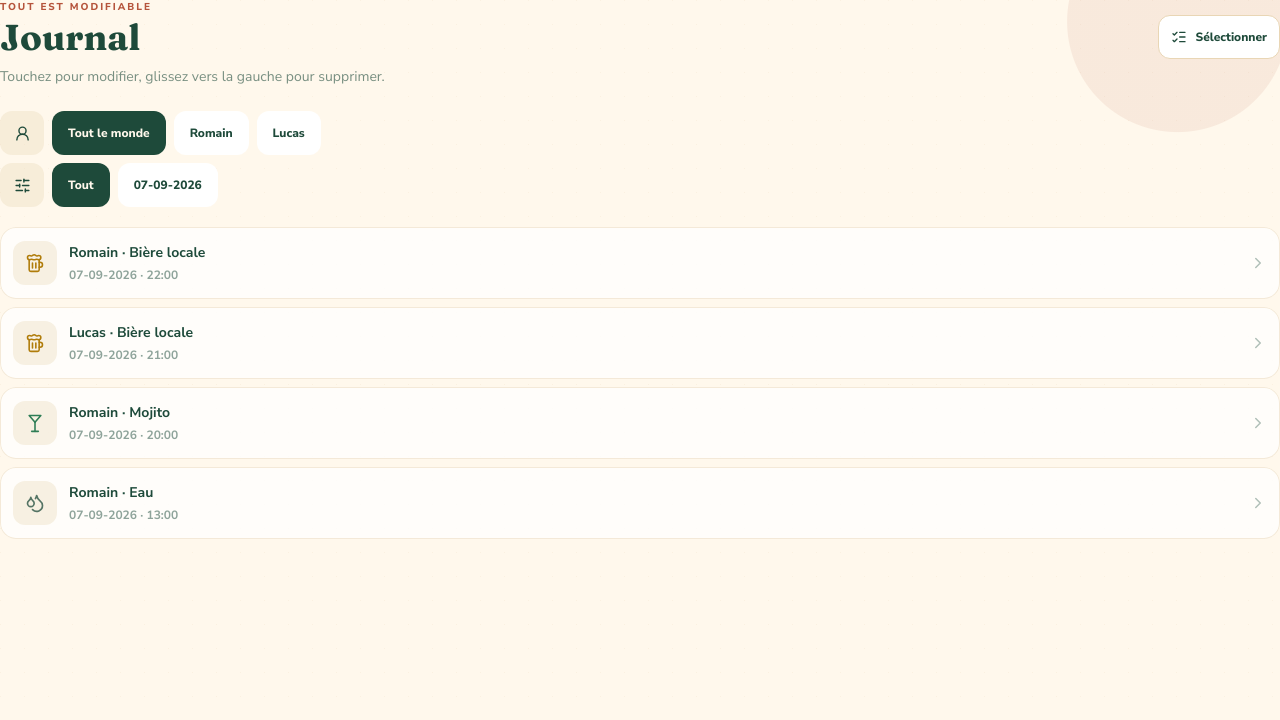
Test case: sélection multiple du Journal › ouvre l’éditeur au tap tant que le mode sélection est inactif
Click the button "Romain · Mojito 07-09-2026 · 20:00": (35, 423) [0, 387, 1279, 459]
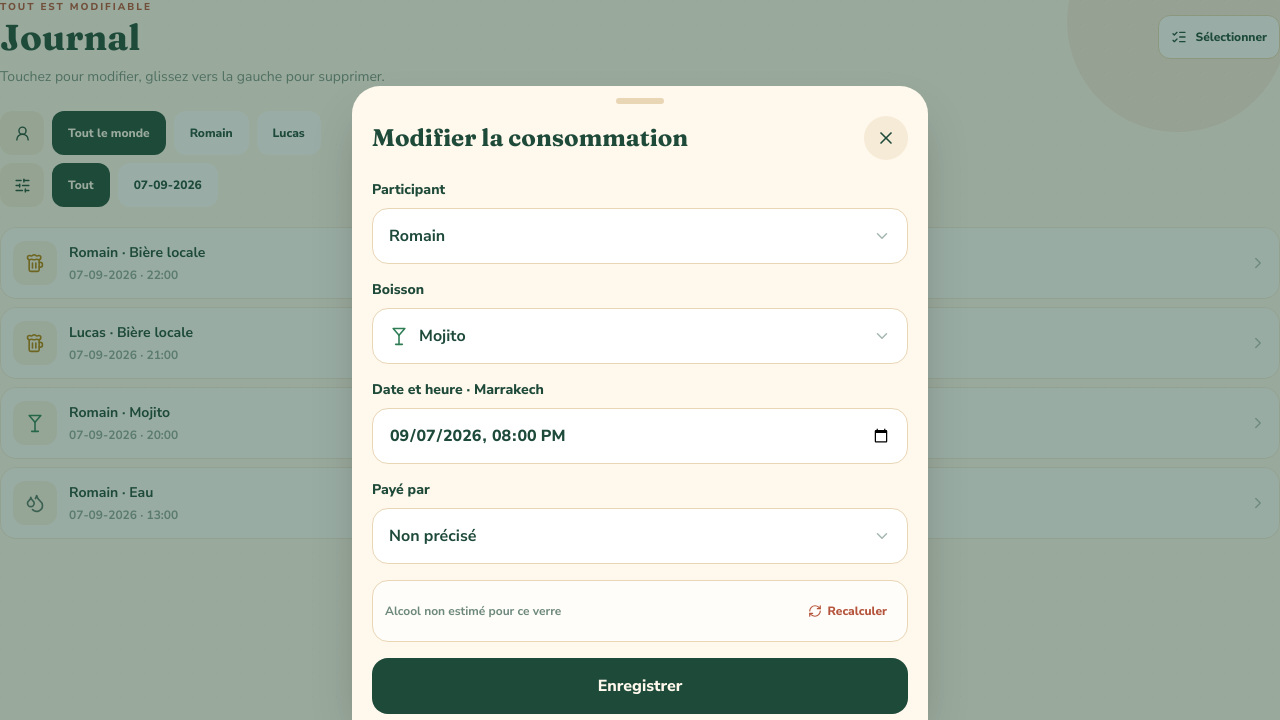
Result: the dialog "Modifier la consommation" is shown at [352, 86, 928, 719]
